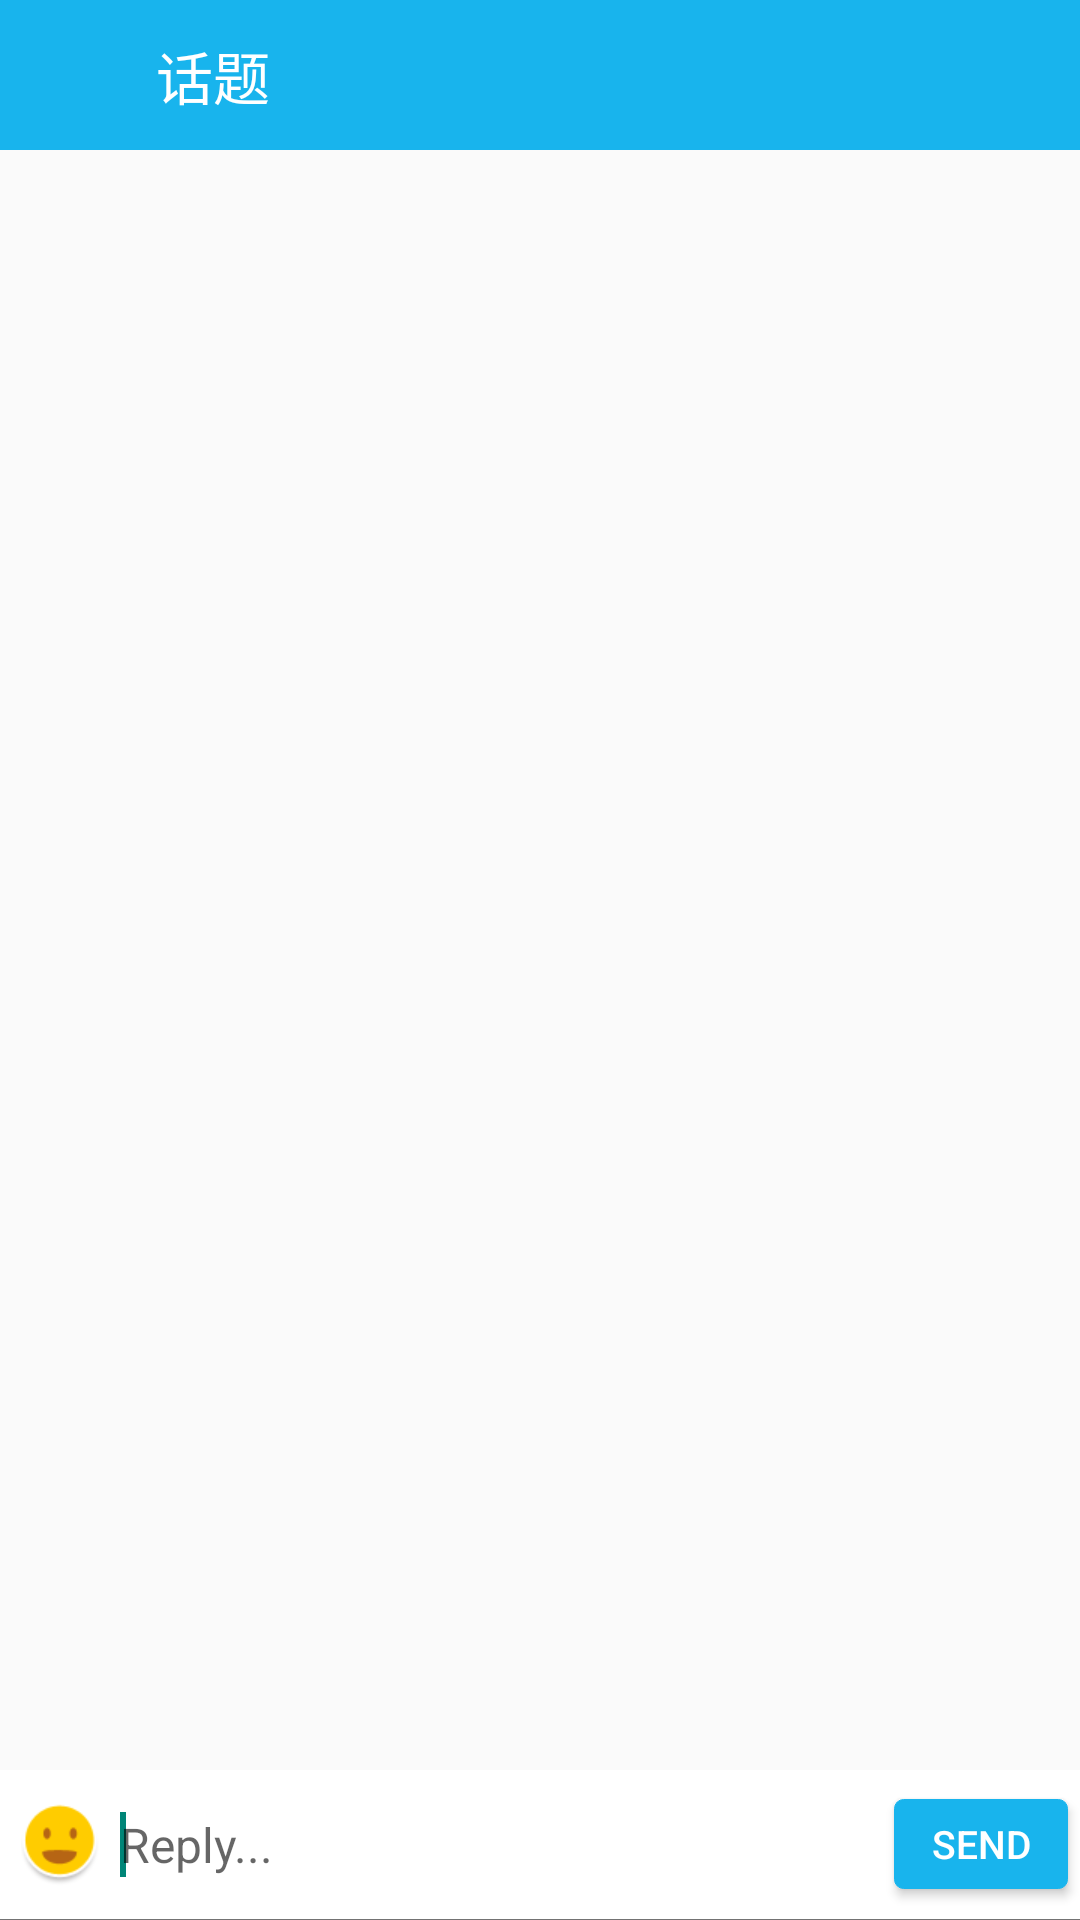

Icon click points for this 1080*1920 phone screenshot, format (x=x, y=y):
smile: (x=60, y=1843)
